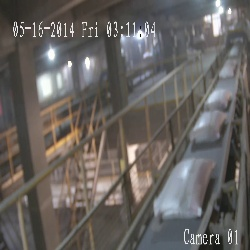cementbag: (153, 158, 215, 217), (189, 109, 227, 141), (204, 88, 230, 109)
